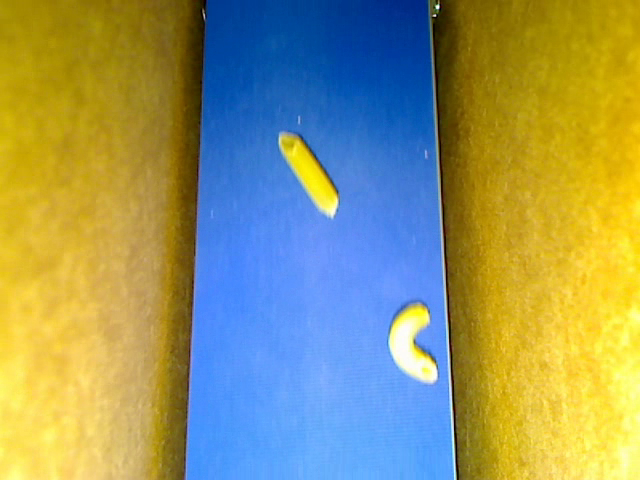elbow: (388, 301, 439, 384)
penne: (277, 130, 339, 219)
